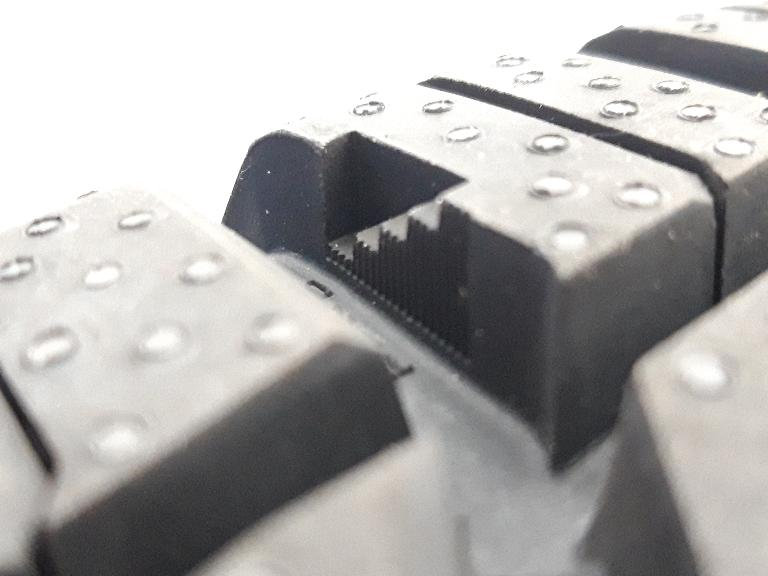temoin:100: (318, 128, 481, 375)
